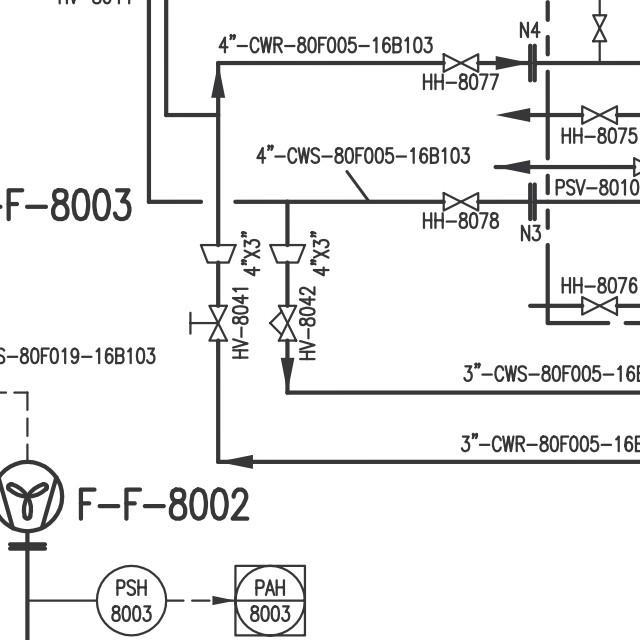F: (0, 453, 64, 538)
GV: (578, 100, 621, 126), (439, 190, 485, 212), (439, 50, 484, 71), (578, 295, 619, 317), (588, 9, 610, 46)
HV: (185, 302, 230, 343)
SP: (197, 240, 238, 266), (263, 242, 307, 265)
